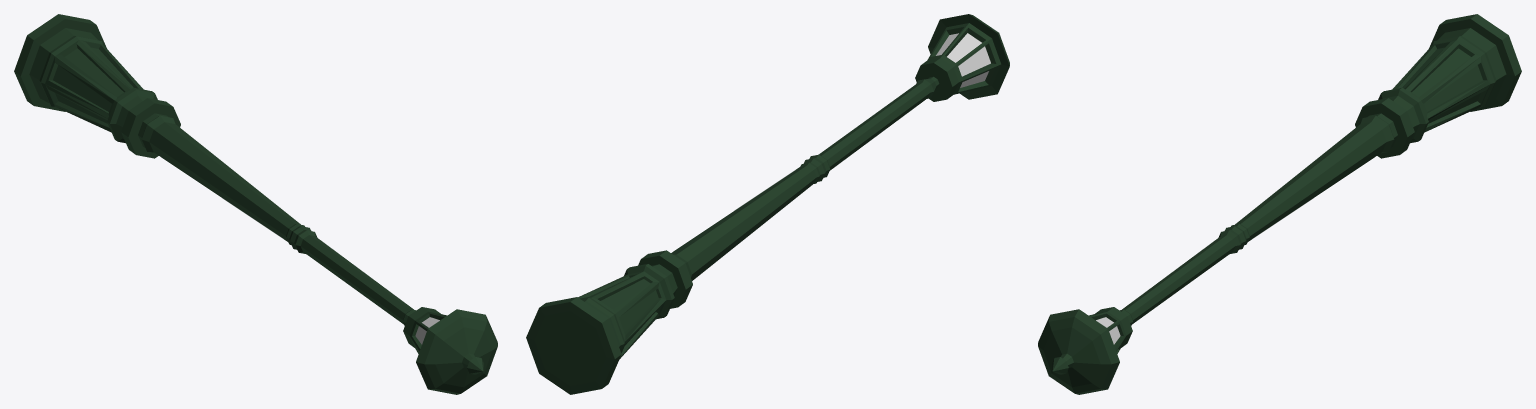
File: street-light-single.obj
3 renders of one model, left to right at view 1: azimuth 30°, elevation 25°; view 2: azimuth 150°, elevation 25°; view 3: azimuth 330°, elevation 25°, orthographic.
Parts seen in each view (by area): view 1: street-light-single; view 2: street-light-single; view 3: street-light-single.
Boxes of the visible parts, box(x1,y1,x2,y2) form: street-light-single: box(14, 14, 497, 394); street-light-single: box(526, 14, 1009, 394); street-light-single: box(1038, 14, 1521, 394).
Bounding box in the file's own units: 31.89 × 31.89 × 264.
